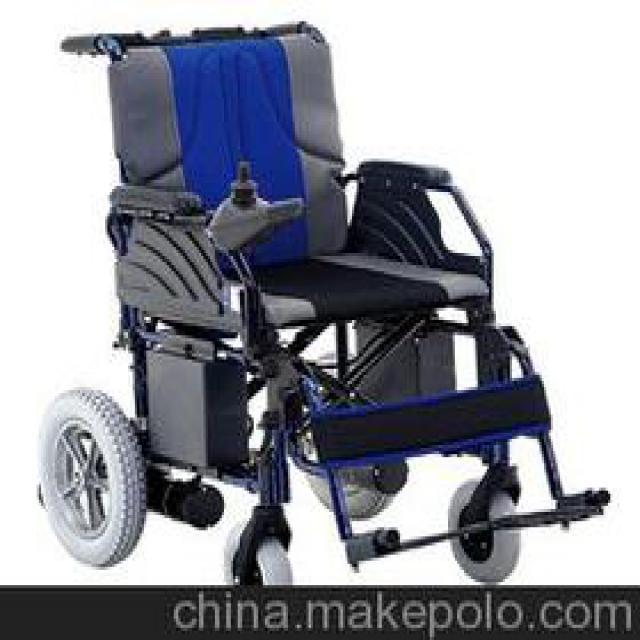wheelchair: (28, 9, 618, 585)
